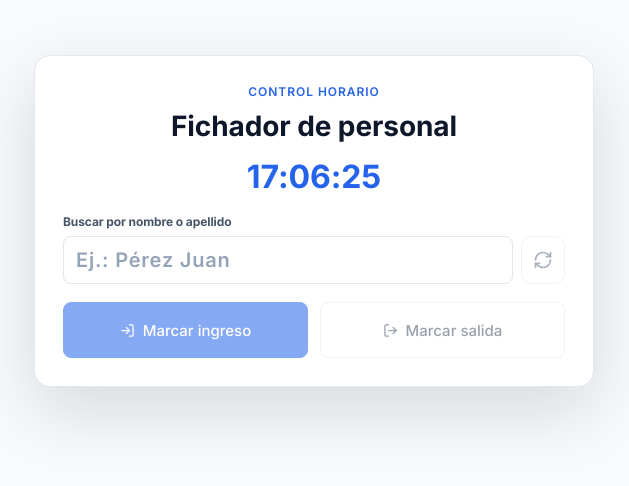
Test: TimeClockPage standalone (F1) — flujo, errores e idempotencia › búsqueda: no consulta con menos de 2 caracteres y muestra legajo + DNI terminado en
Type "G" into the field labelled "Buscar por nombre o apellido" at (288, 260), box [63, 236, 513, 284]
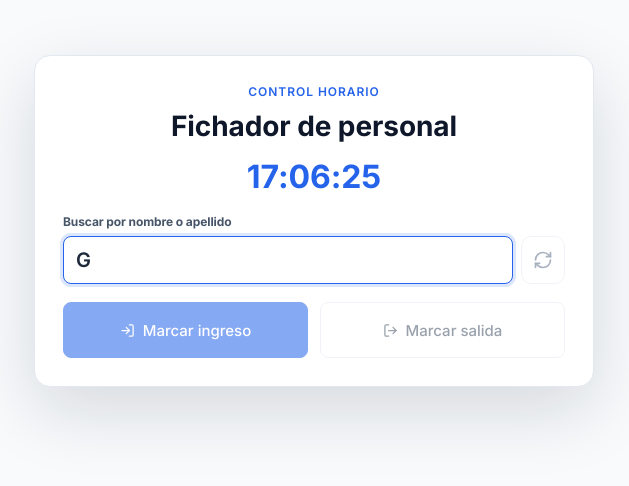
Type "o" into the field labelled "Buscar por nombre o apellido" at (288, 260), box [63, 236, 513, 284]
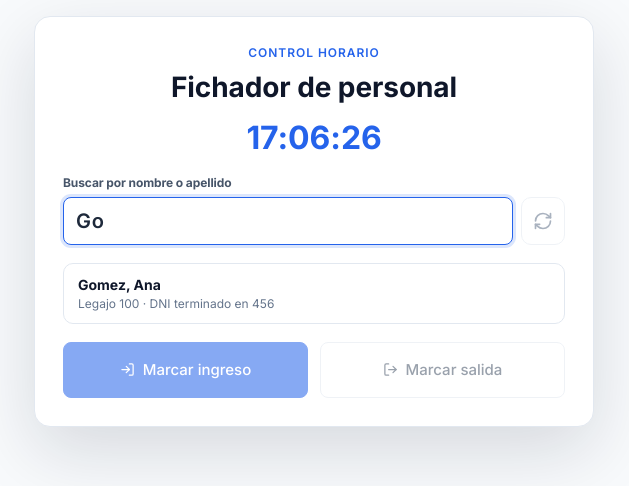
expect the text "Legajo 100 · DNI terminado en 456" is shown: met, box [78, 296, 274, 310]
